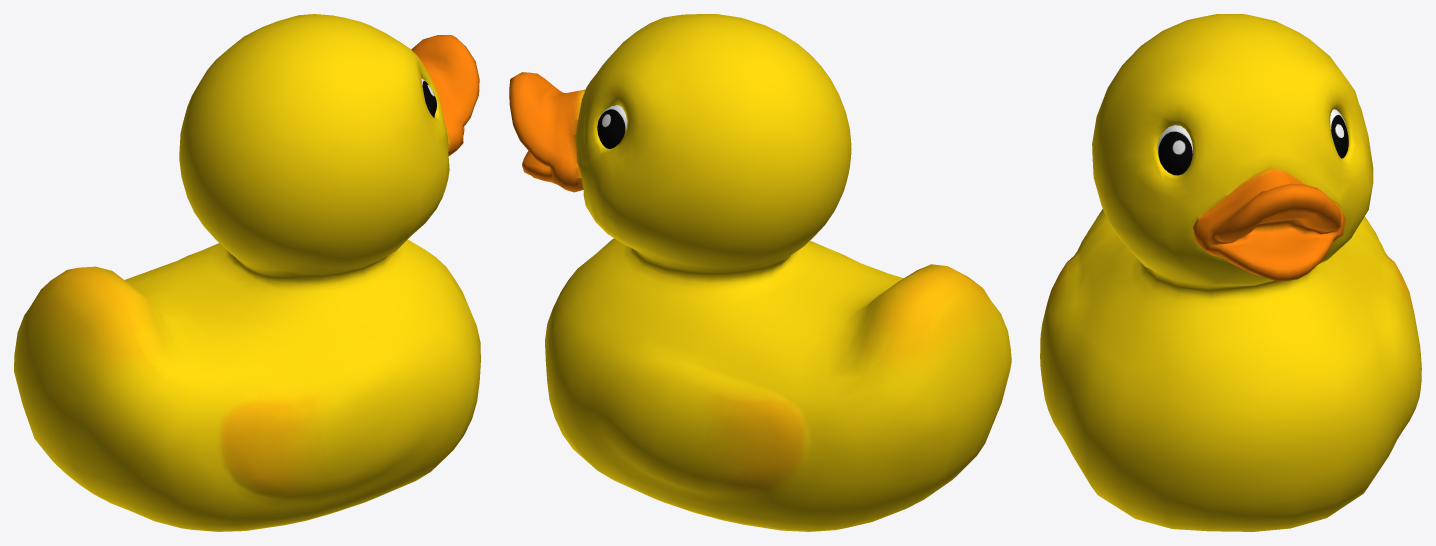
The model's file is Duck.meshopt-notex.glb.
3 renders of one model, left to right at view 1: azimuth 30°, elevation 25°; view 2: azimuth 150°, elevation 25°; view 3: azimuth 270°, elevation 25°, orthographic. The views are drawn at different scales.
Parts seen in each view (by area): view 1: LOD3spShape; view 2: LOD3spShape; view 3: LOD3spShape.
Boxes of the visible parts, x1,y1,x2,y2 form: LOD3spShape: [14, 14, 480, 531]; LOD3spShape: [509, 14, 1011, 531]; LOD3spShape: [1040, 14, 1421, 531].
Size of the model in its own units: 1.65 by 1.54 by 1.15.
Materials: 1 (1 with a texture image).
